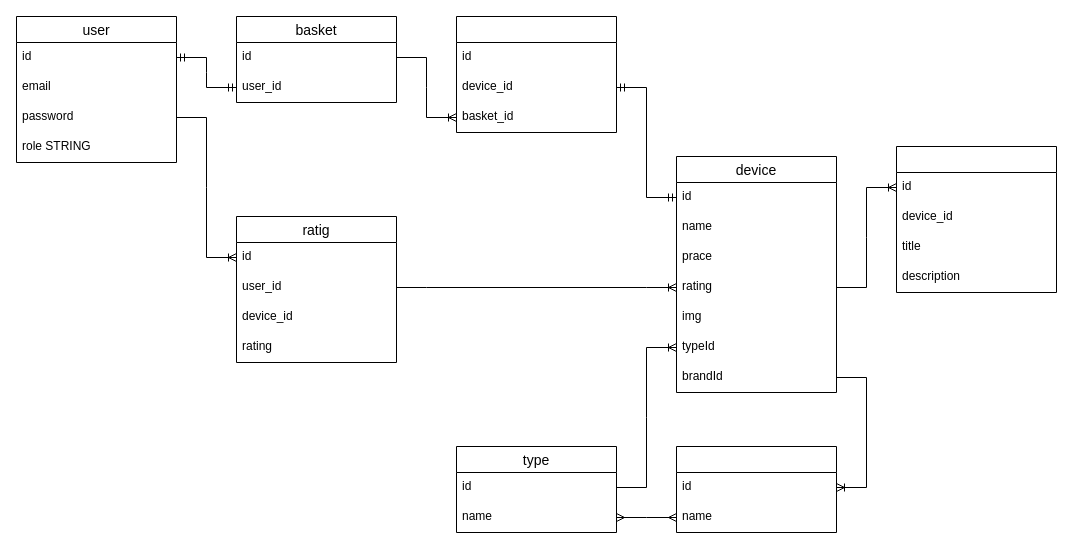
The diagram is 1073 pixels wide and 549 high, and some of its shapes have lost their labels. The shapes that lost their labels are listed below. From the top down, each one's box as (x1, y1, x2, y2) in pixels, then its label:
(456, 16, 616, 132): basket_device
(896, 146, 1056, 292): device_info
(676, 446, 836, 532): brand
